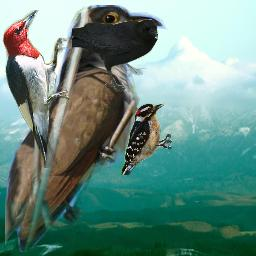Crow: (72, 19, 158, 92)
Cuckoo: (5, 5, 201, 252)
Woodpecker: (2, 10, 69, 168), (121, 103, 172, 175)
